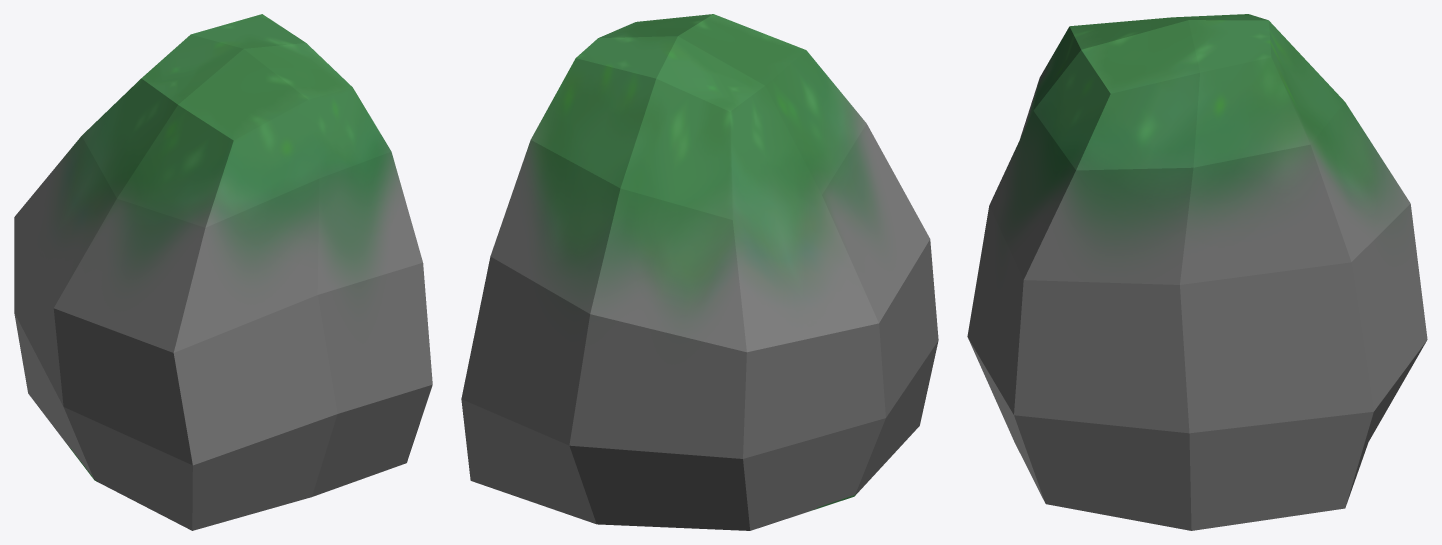
Rendered from rock2.obj.
3 renders of one model, left to right at view 1: azimuth 30°, elevation 25°; view 2: azimuth 150°, elevation 25°; view 3: azimuth 270°, elevation 25°, orthographic. The views are drawn at different scales.
Parts seen in each view (by area): view 1: Cube; view 2: Cube; view 3: Cube.
Part boxes in pixels (bbox=[...]): Cube: bbox=[14, 14, 432, 530]; Cube: bbox=[461, 14, 938, 530]; Cube: bbox=[967, 14, 1427, 530].
Bounding box in the file's own units: 0.3757 × 0.4678 × 0.4207.
